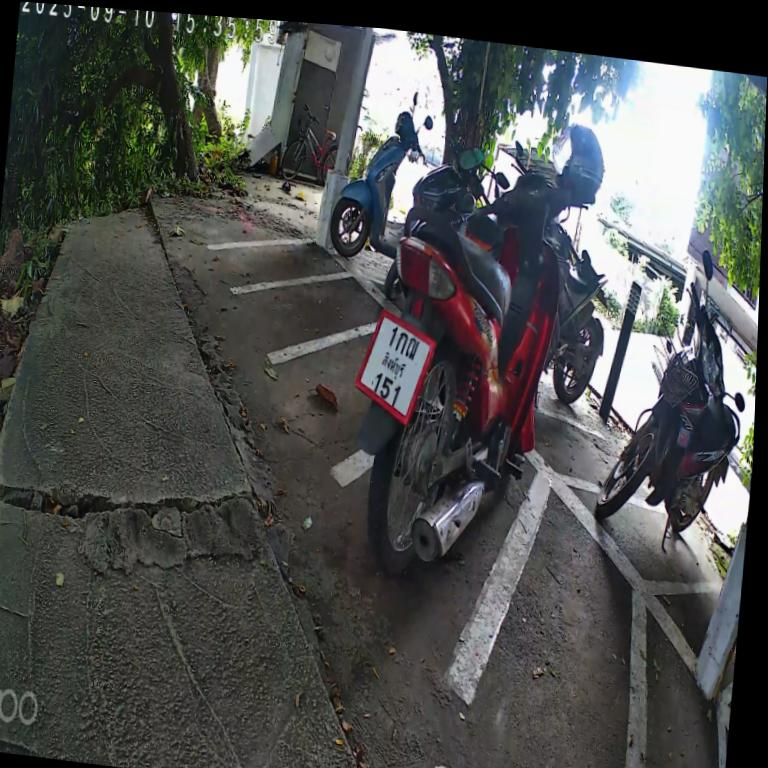license plate: (349, 295, 445, 435)
